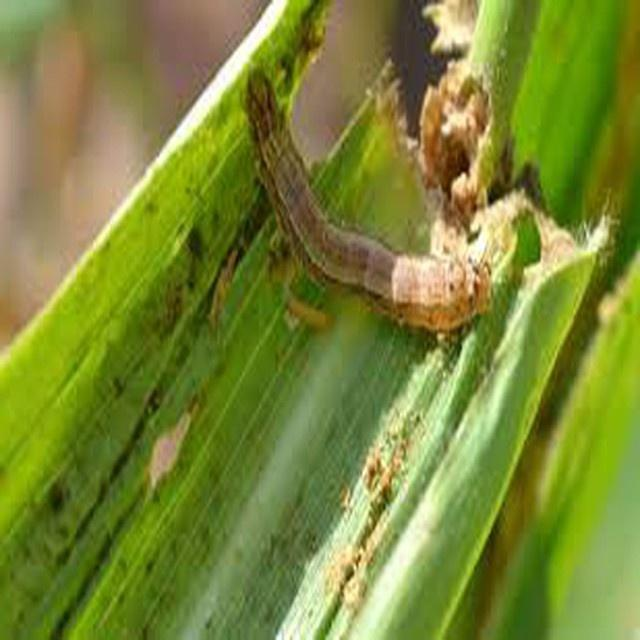gusano_cogollero: (242, 63, 498, 336)
